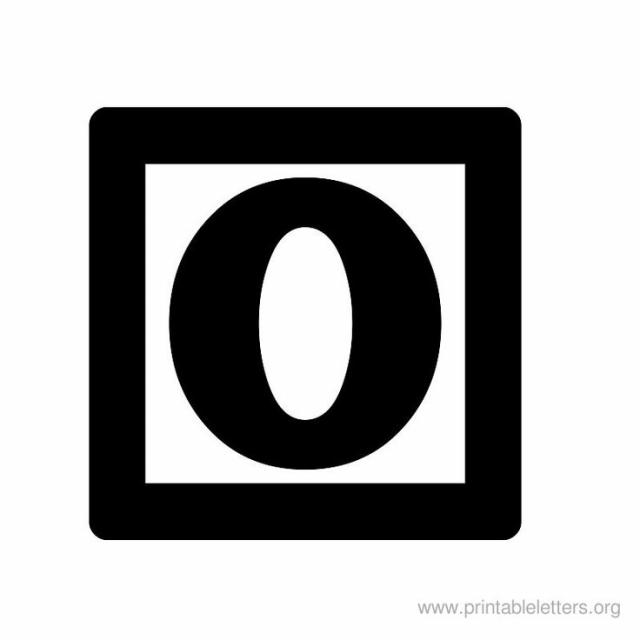O: (156, 175, 456, 481)
